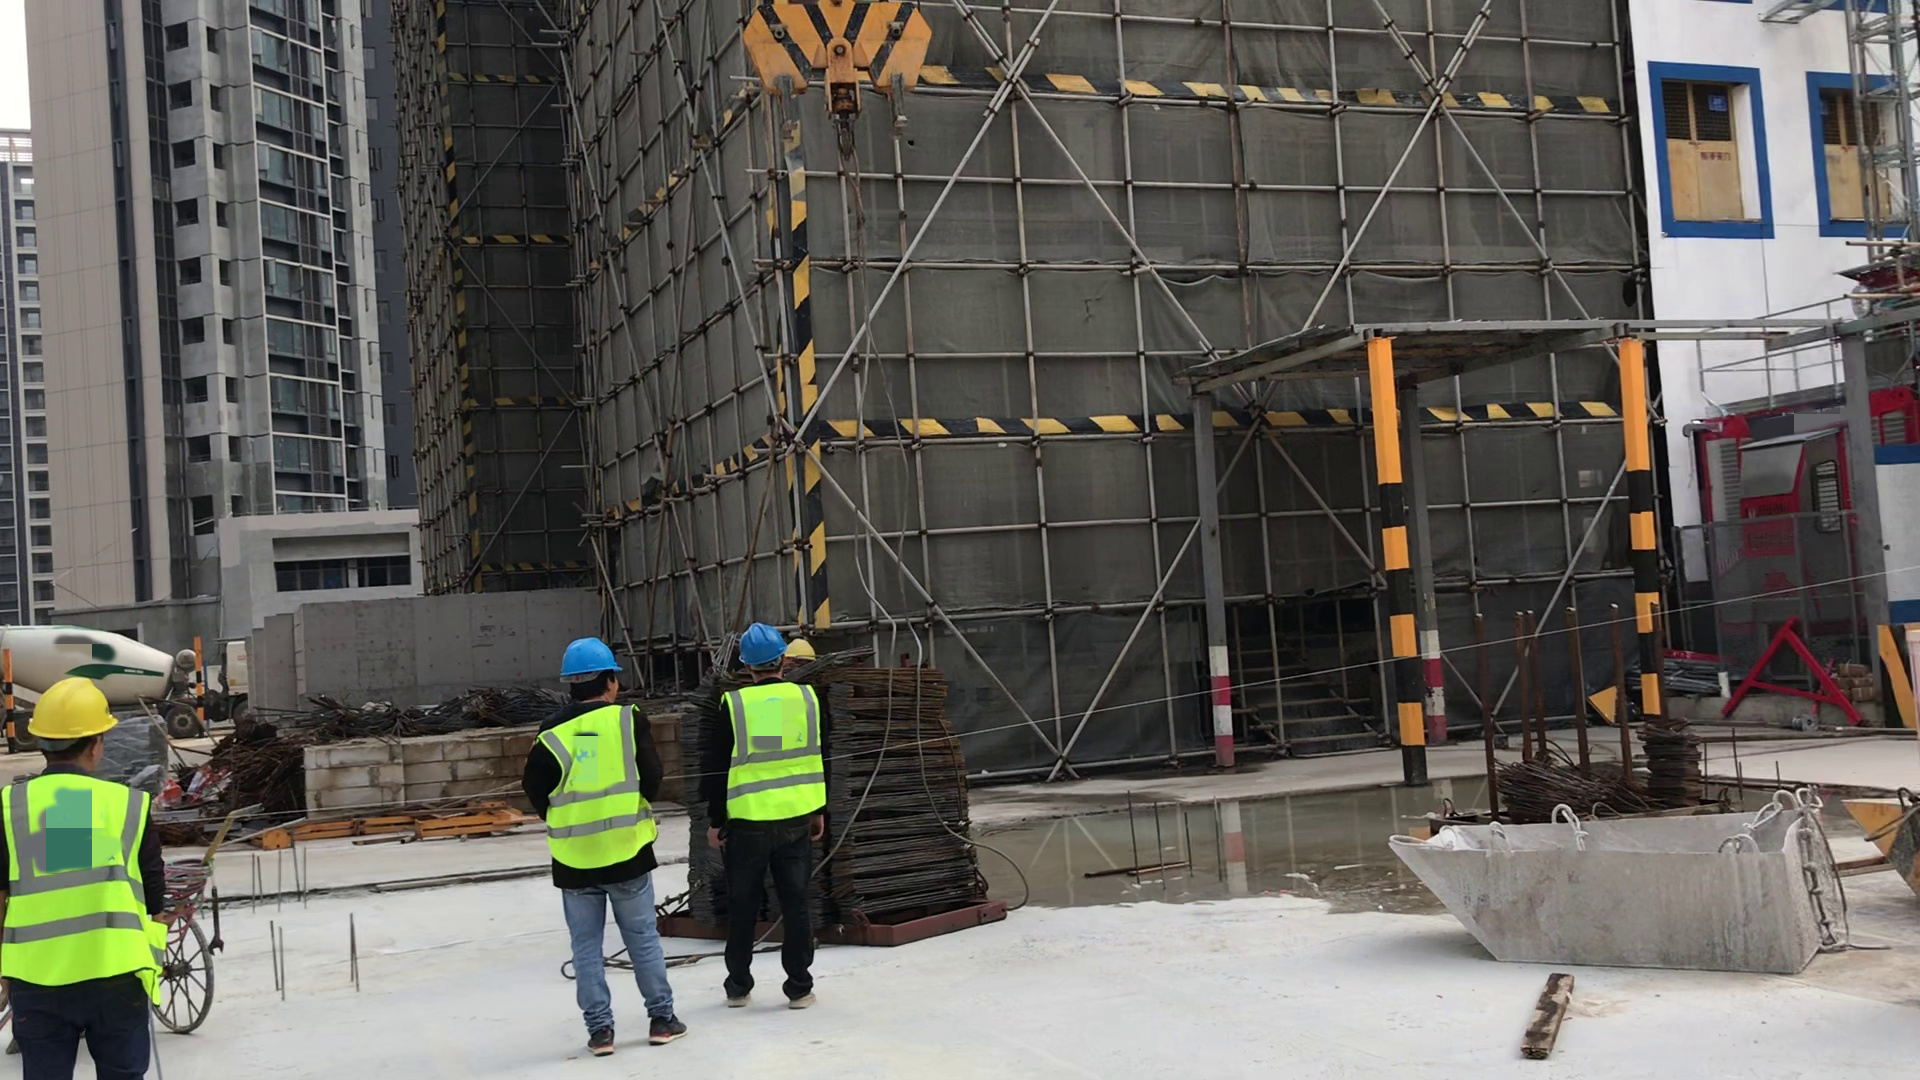helmet: (555, 612, 630, 686), (33, 676, 107, 745), (729, 634, 785, 668)
person: (11, 668, 178, 1080), (523, 641, 681, 1058), (701, 620, 838, 1013)
vest: (7, 795, 158, 978), (525, 727, 648, 858), (719, 686, 830, 824)
